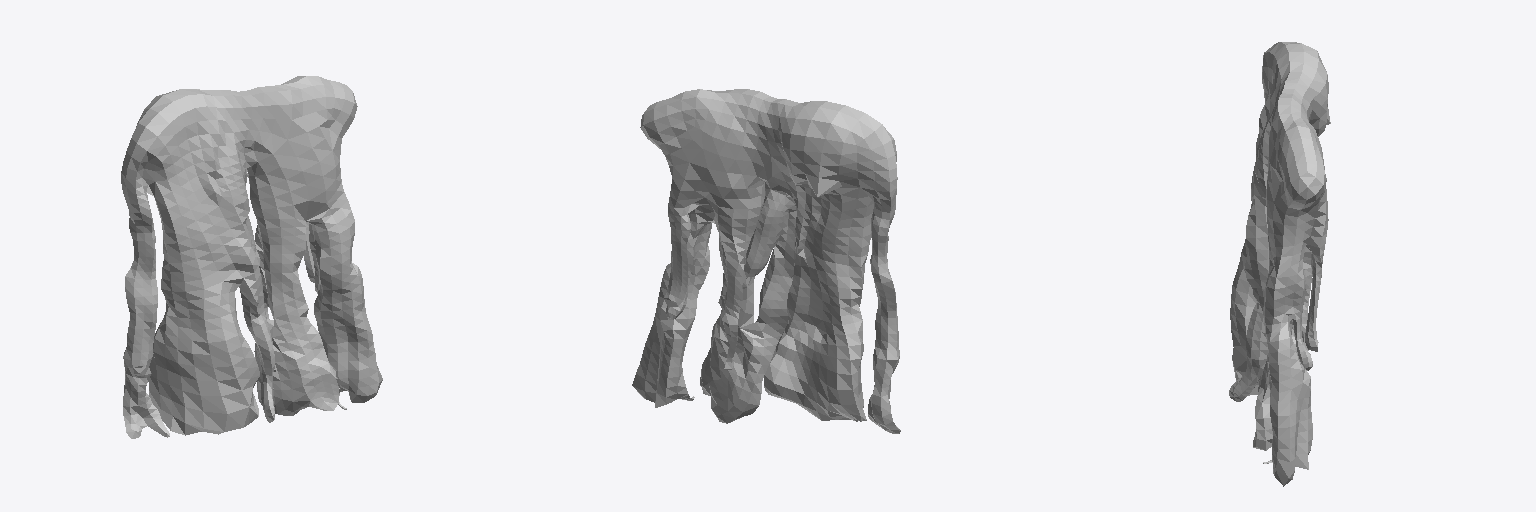
File: LavaFall.obj
3 views of the same model, side by side, from view 1: azimuth 30°, elevation 25°; view 2: azimuth 150°, elevation 25°; view 3: azimuth 270°, elevation 25° (orthographic).
Parts seen in each view (by area): view 1: Лавопад; view 2: Лавопад; view 3: Лавопад.
Boxes of the visible parts, x1=… form: Лавопад: x1=121, y1=76, x2=382, y2=438; Лавопад: x1=632, y1=89, x2=900, y2=433; Лавопад: x1=1229, y1=42, x2=1330, y2=486.
Size of the model in its own units: 5.63 by 7.1 by 1.89.